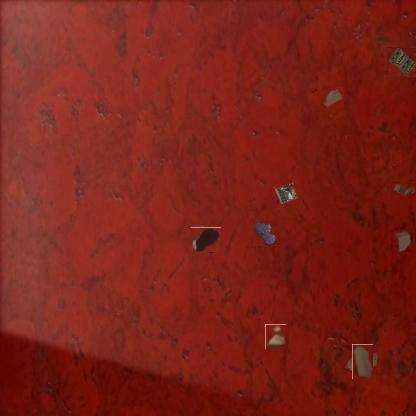dirty: (386, 48, 416, 77), (349, 347, 376, 376), (274, 180, 298, 204), (265, 324, 286, 349), (392, 229, 414, 251), (322, 86, 344, 108), (392, 182, 416, 196)
liquid: (193, 226, 220, 254), (252, 221, 277, 245)
